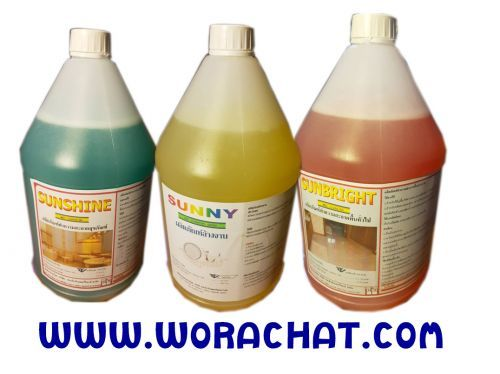Cleaning_solution: (296, 9, 451, 314), (154, 17, 303, 314), (14, 24, 159, 307)
